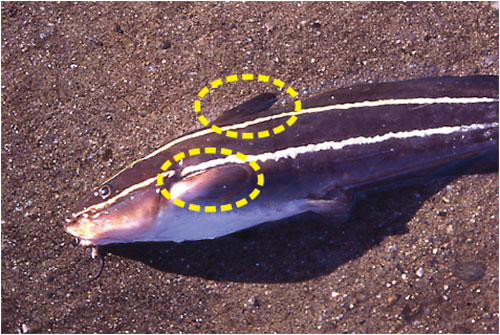gonzui: (64, 64, 500, 250)
